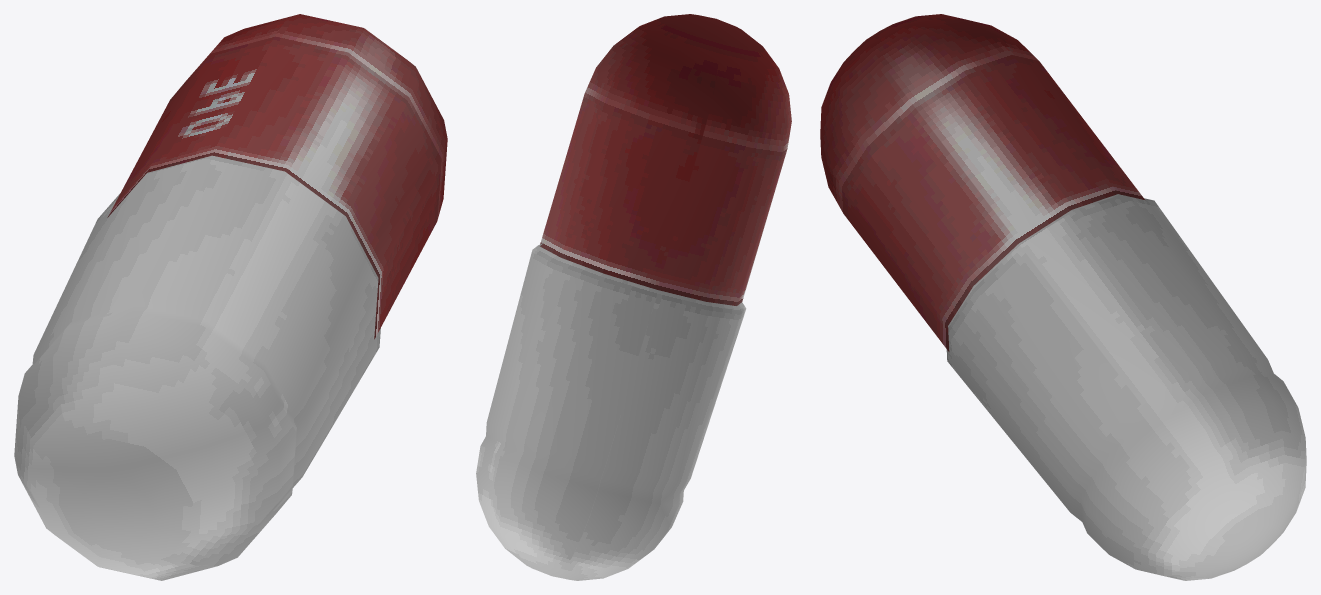
The model's file is ps2_save-icons_simple2000seriesvol58thegekai.glb.
3 views of the same model, side by side, from view 1: azimuth 30°, elevation 25°; view 2: azimuth 150°, elevation 25°; view 3: azimuth 270°, elevation 25° (orthographic). The views are drawn at different scales.
Parts seen in each view (by area): view 1: icon_0.ico; view 2: icon_0.ico; view 3: icon_0.ico.
Boxes of the visible parts, x1,y1,x2,y2 form: icon_0.ico: (14,14,447,580); icon_0.ico: (476,14,791,580); icon_0.ico: (820,14,1306,580).
Bounding box in the file's own units: 1.4 × 3.28 × 2.67.
Materials: 1 (1 with a texture image).
